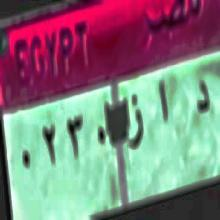0: (96, 124, 107, 148), (22, 146, 31, 175)
2: (41, 123, 58, 172)
3: (64, 113, 86, 170)
alif: (156, 78, 172, 130)
daal: (192, 77, 213, 125)
zay: (127, 92, 146, 160)
